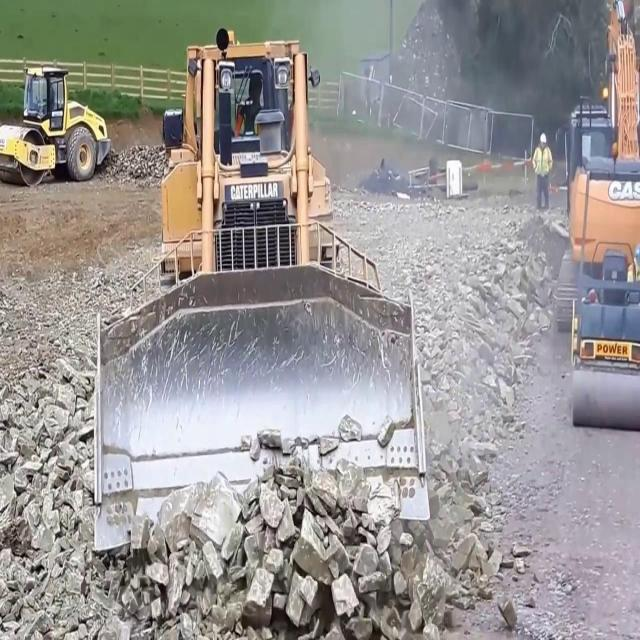Excavator: (555, 0, 639, 332)
Roller: (573, 164, 639, 433), (0, 62, 108, 182)
